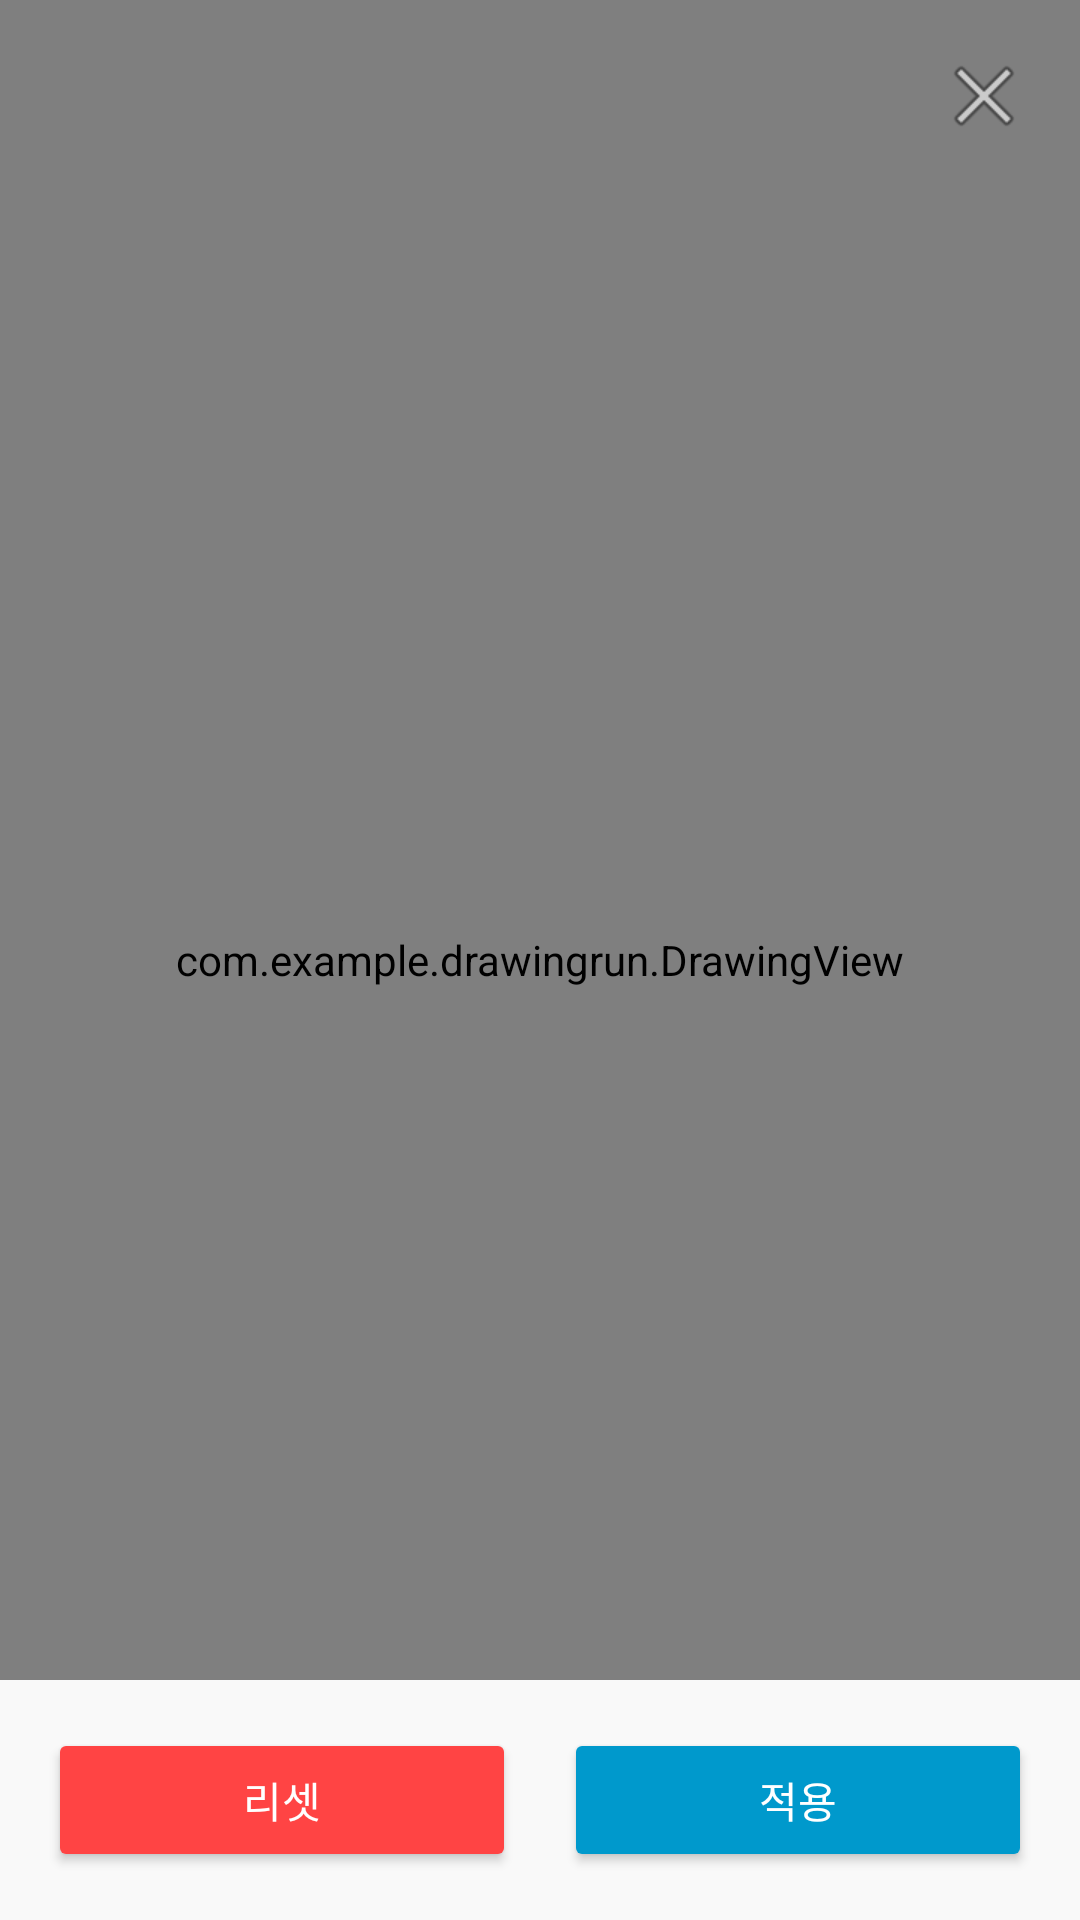

Icon click points for this 1080 × 1920 phone screenshot, format point (x, y):
닫기: point (984, 96)
